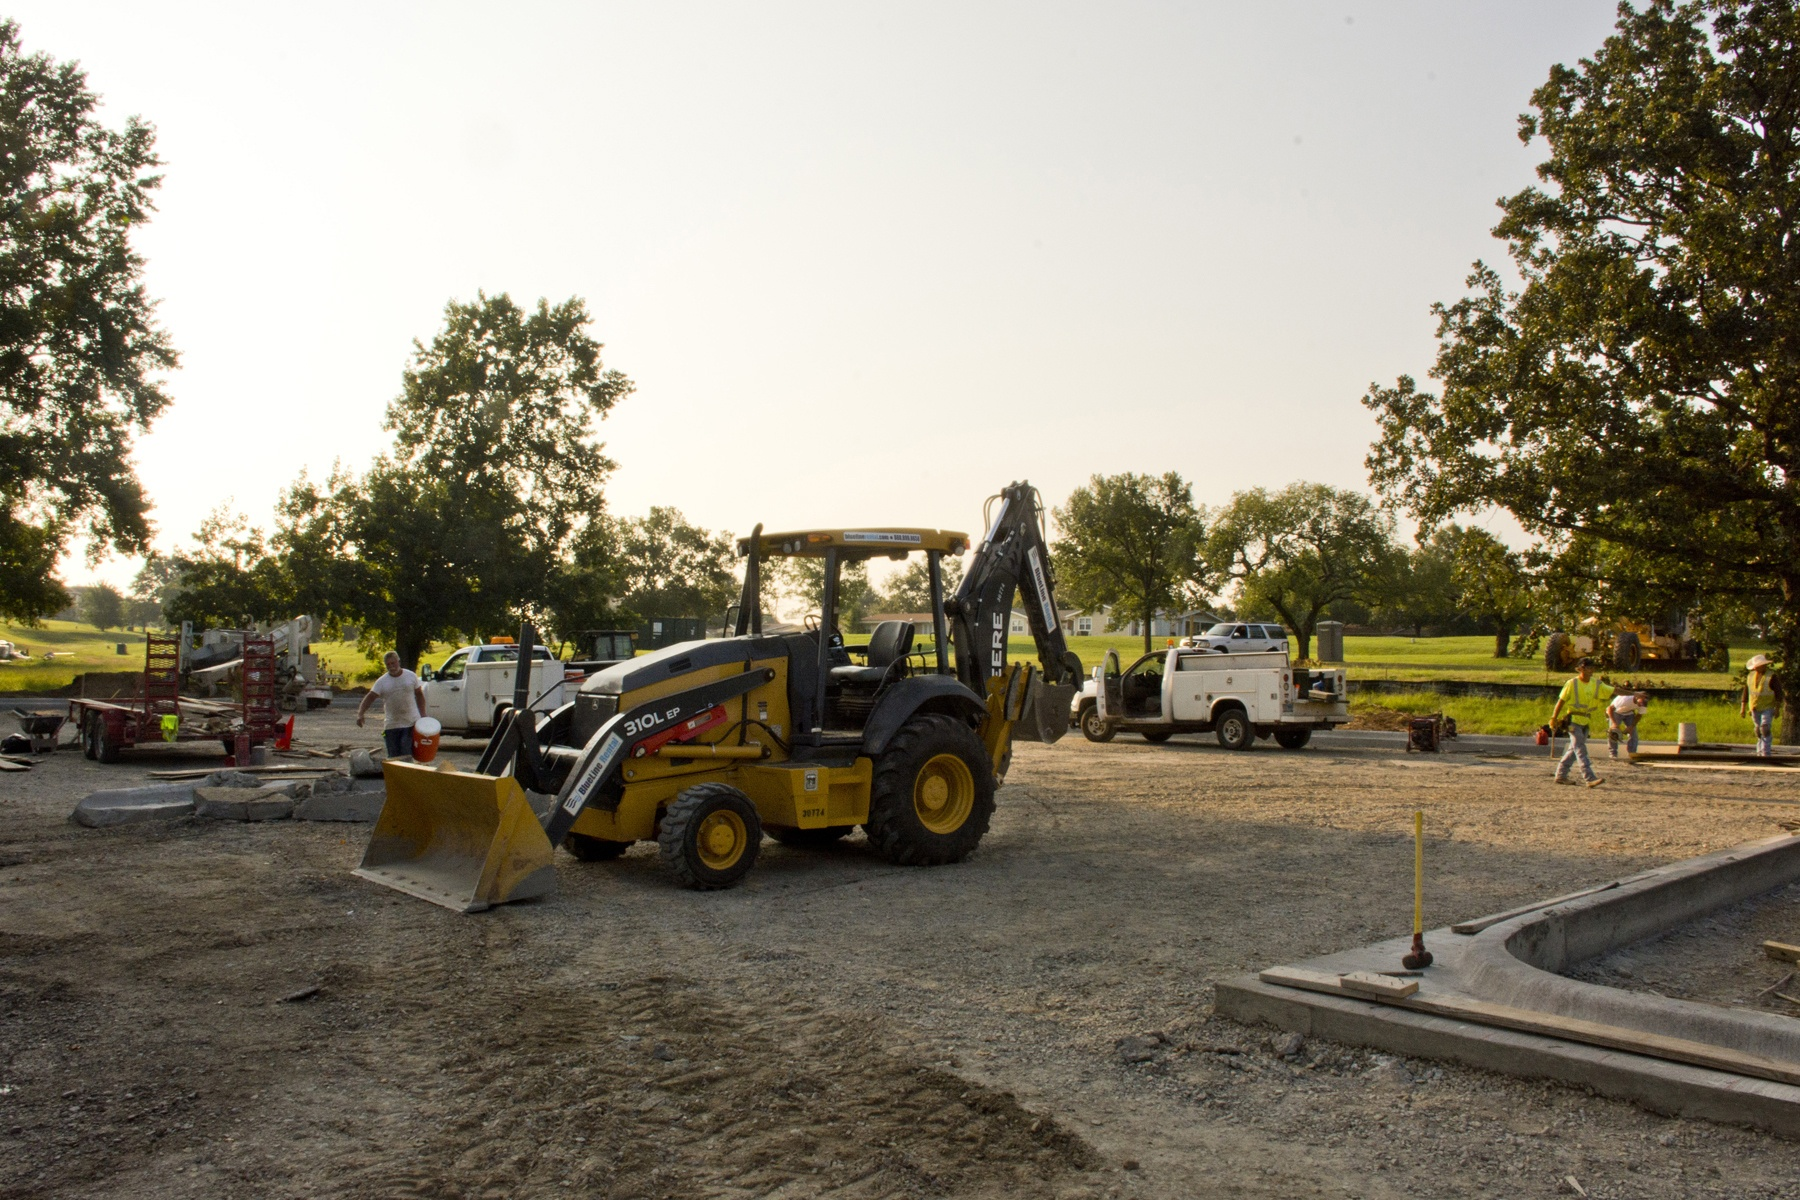none: (382, 650, 402, 674), (1578, 656, 1594, 678), (1635, 688, 1649, 707)
white: (1750, 652, 1767, 674)
